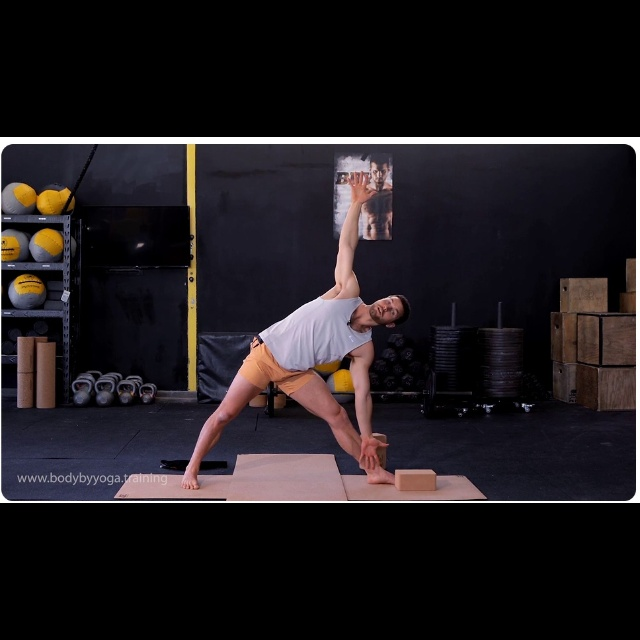Triangle_Pose: (172, 167, 438, 494)
